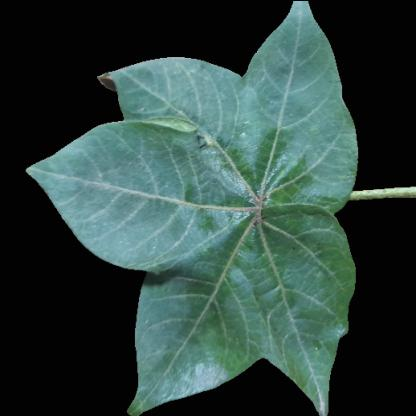healthy: (92, 126, 332, 241), (163, 249, 318, 367), (236, 57, 336, 123), (154, 70, 230, 120), (54, 146, 100, 206)
